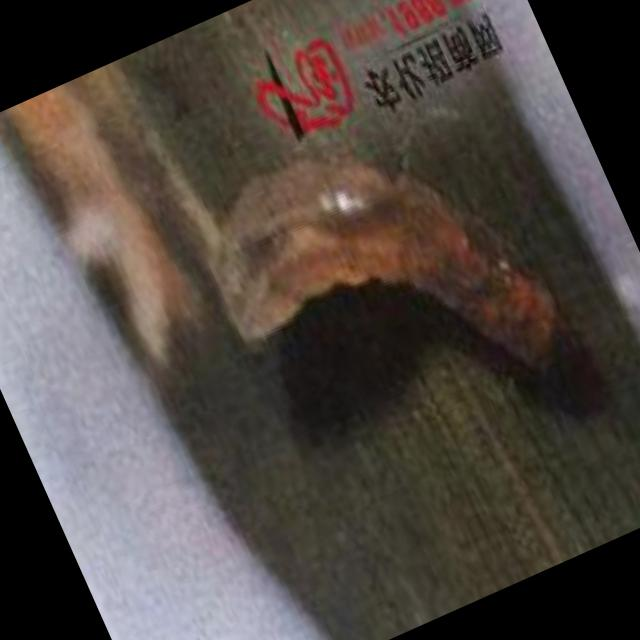whorl-maggot: (216, 157, 558, 380)
